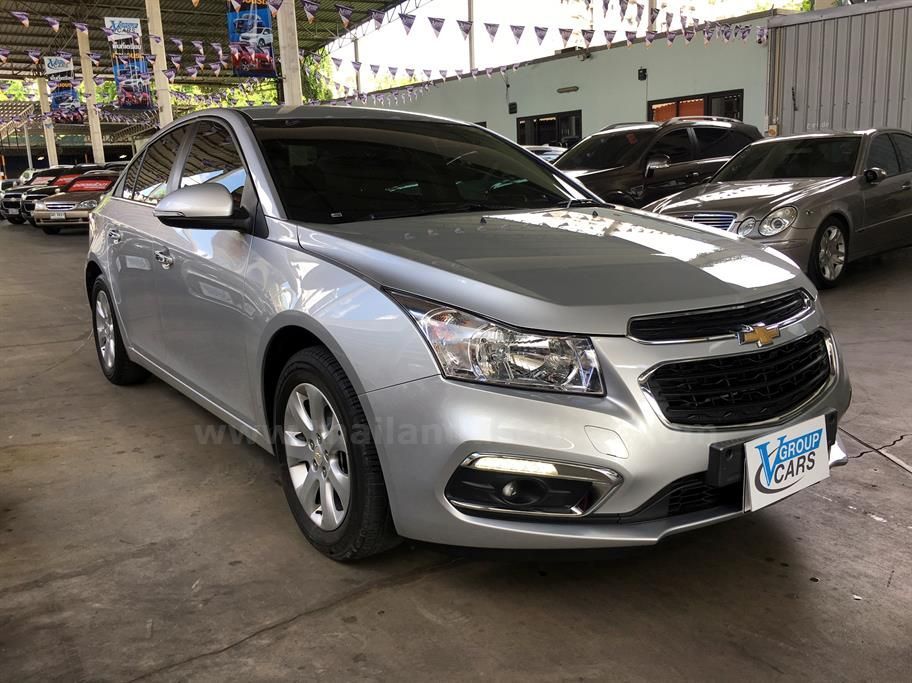sedan: (78, 103, 855, 568)
